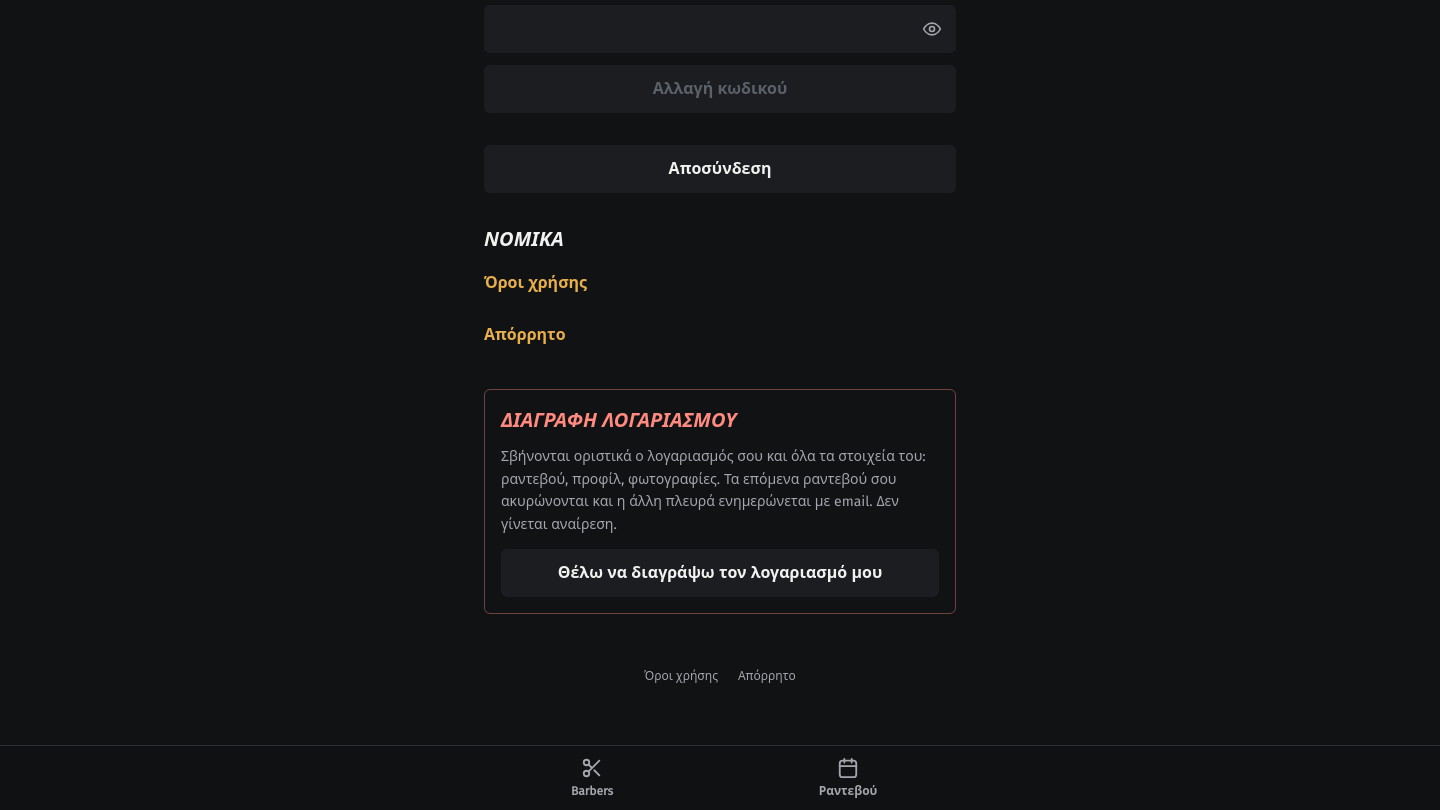
explains a wrong password without deleting
(page scrolled)
Click the button "Θέλω να διαγράψω τον λογαριασμό μου".
click(720, 573)  # box [501, 549, 939, 597]
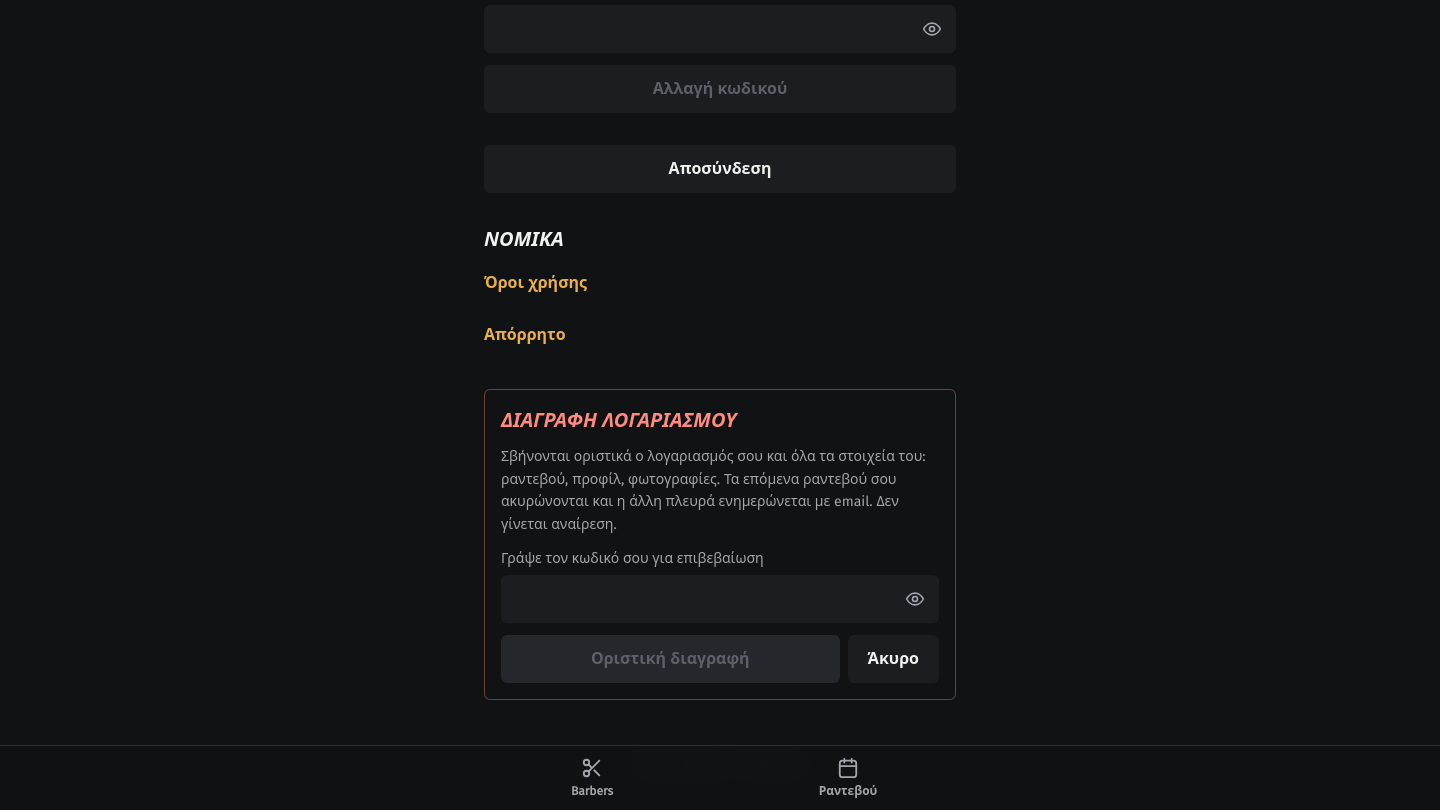
Type "nope" into the password field labelled "Γράψε τον κωδικό σου για επιβεβαίωση".
click(720, 599); type("nope")  # box [501, 575, 939, 623]
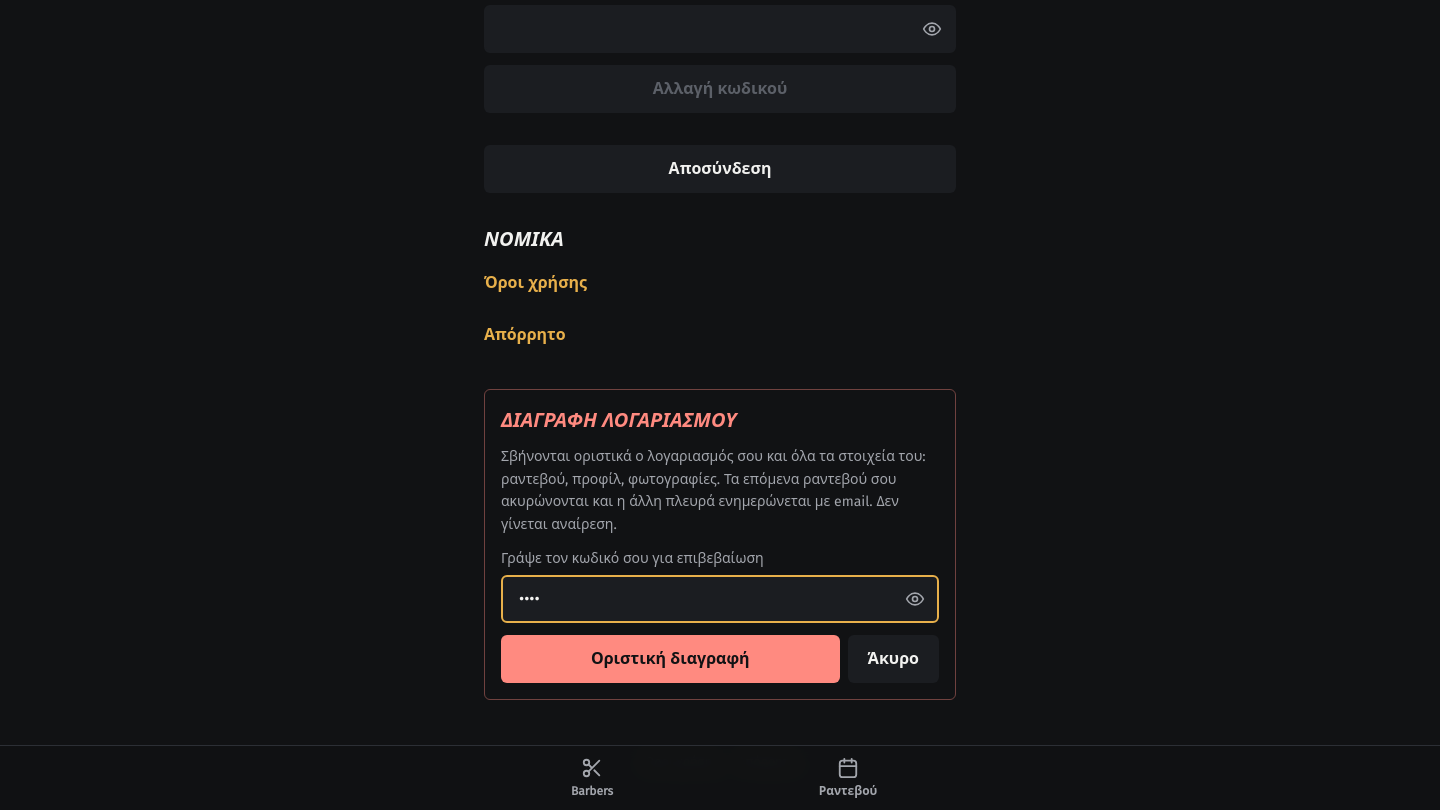
Click the button "Οριστική διαγραφή".
click(670, 659)  # box [501, 635, 840, 683]
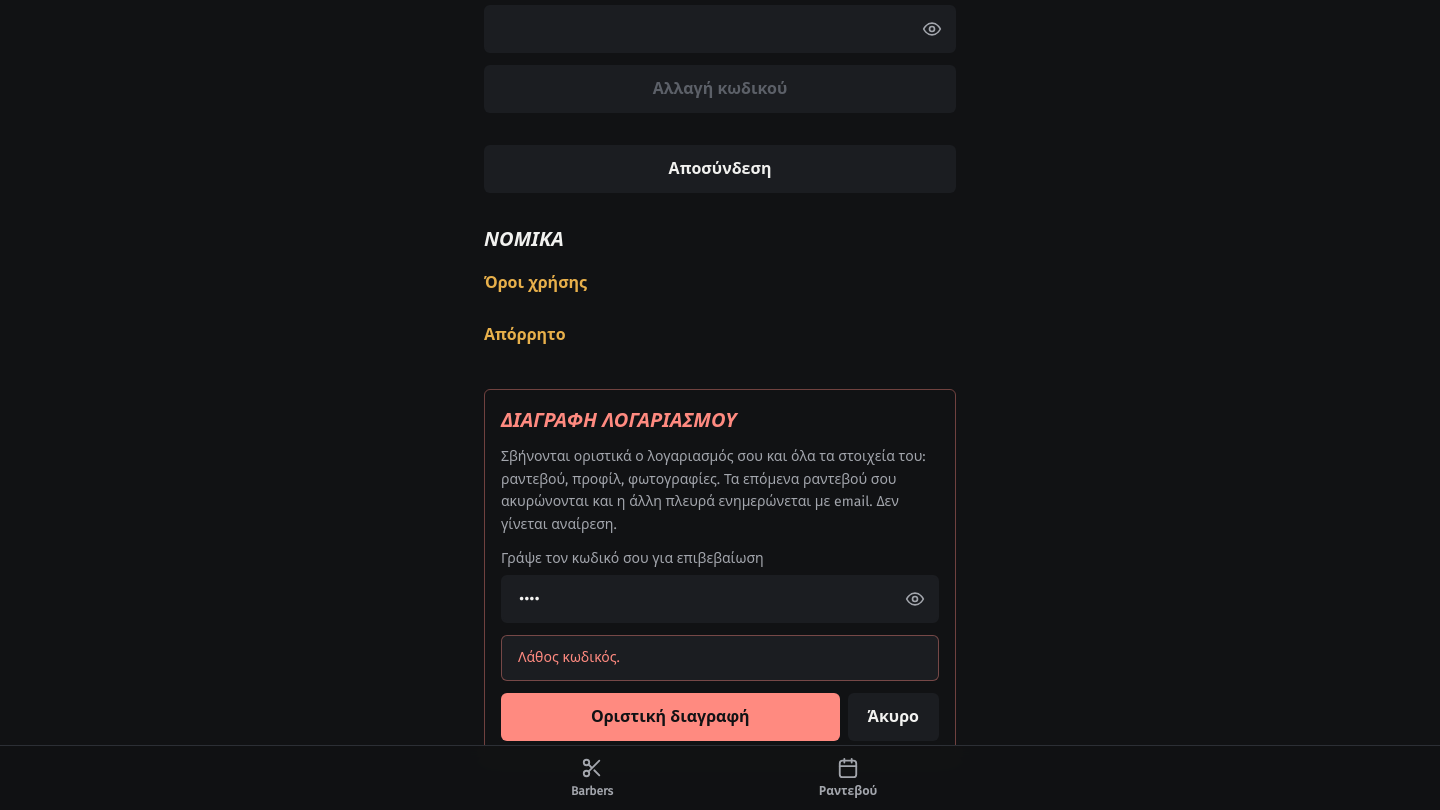
Expected: the message reads "Λάθος κωδικός.", [518, 649, 620, 666]
